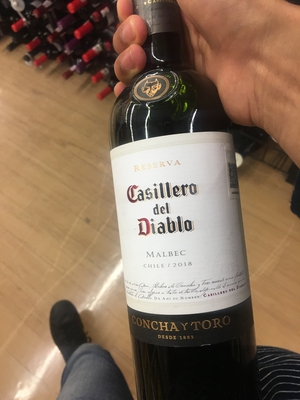casillero del diablo malbec: (86, 30, 271, 400)
